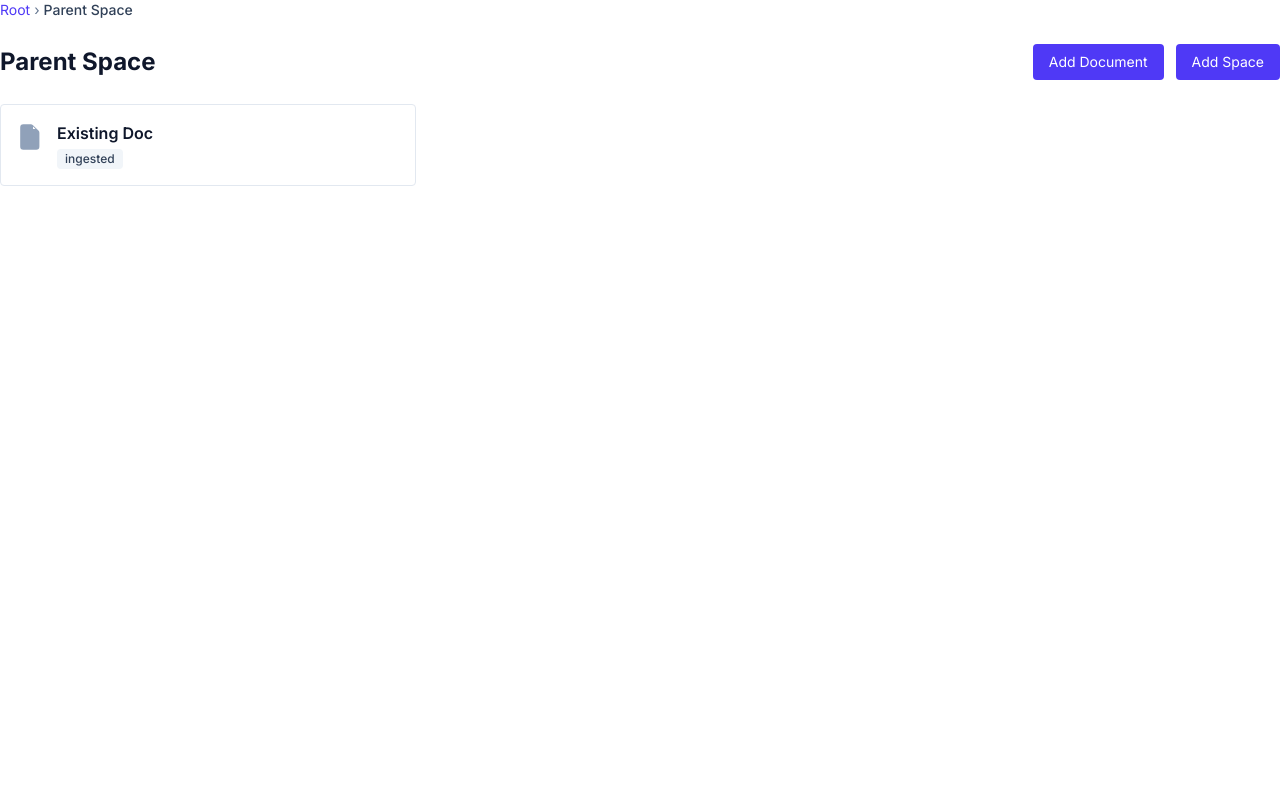
Test: Space page — Add Document button (US1) › creates a document in the current space and appends it to the grid without reload
This screenshot has width=1280, height=800.
Expected: the heading "Parent Space" is shown, [0,46,156,78]
Click the button "Add Document" at point(1098, 62), box [1033,44,1164,80]
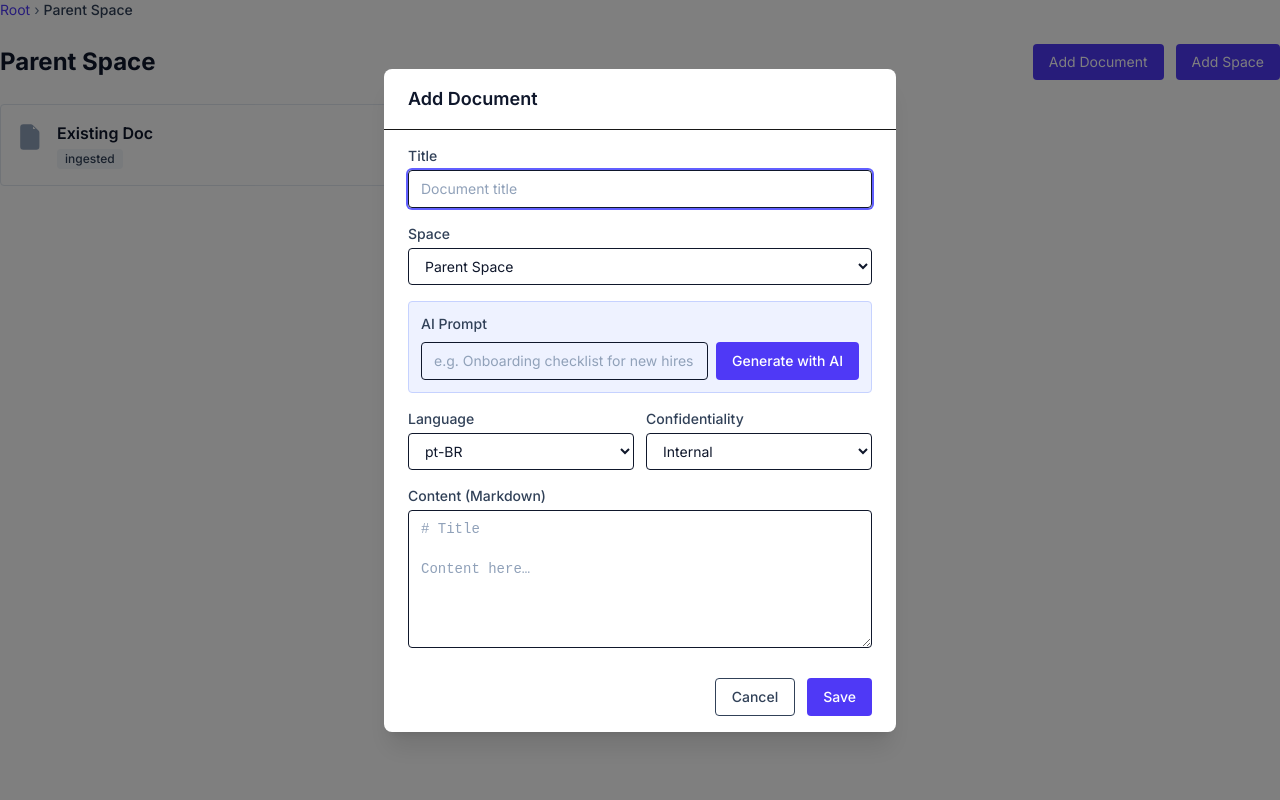
Type "New Doc" into the field labelled "Title" at point(640, 188), box [408,170,872,208]
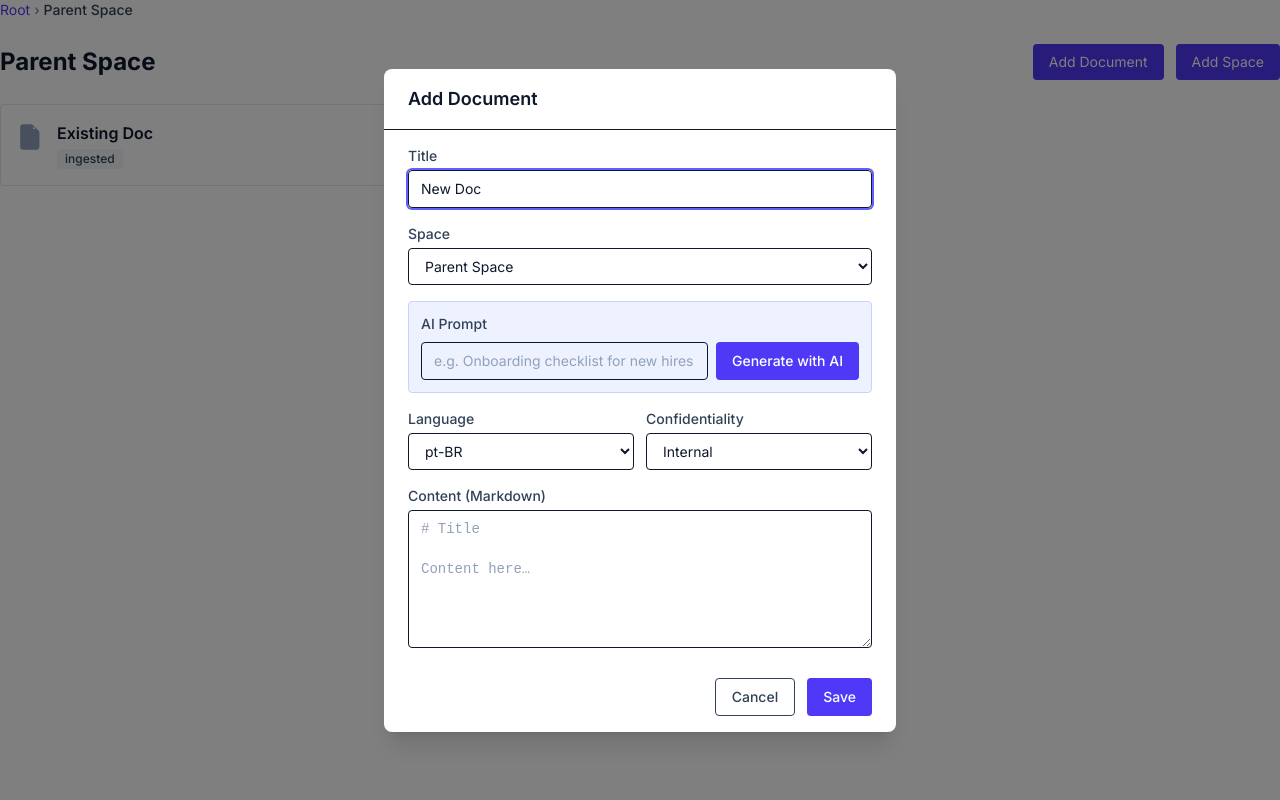
Click the button "Save" at point(840, 696), box [807,678,872,716]
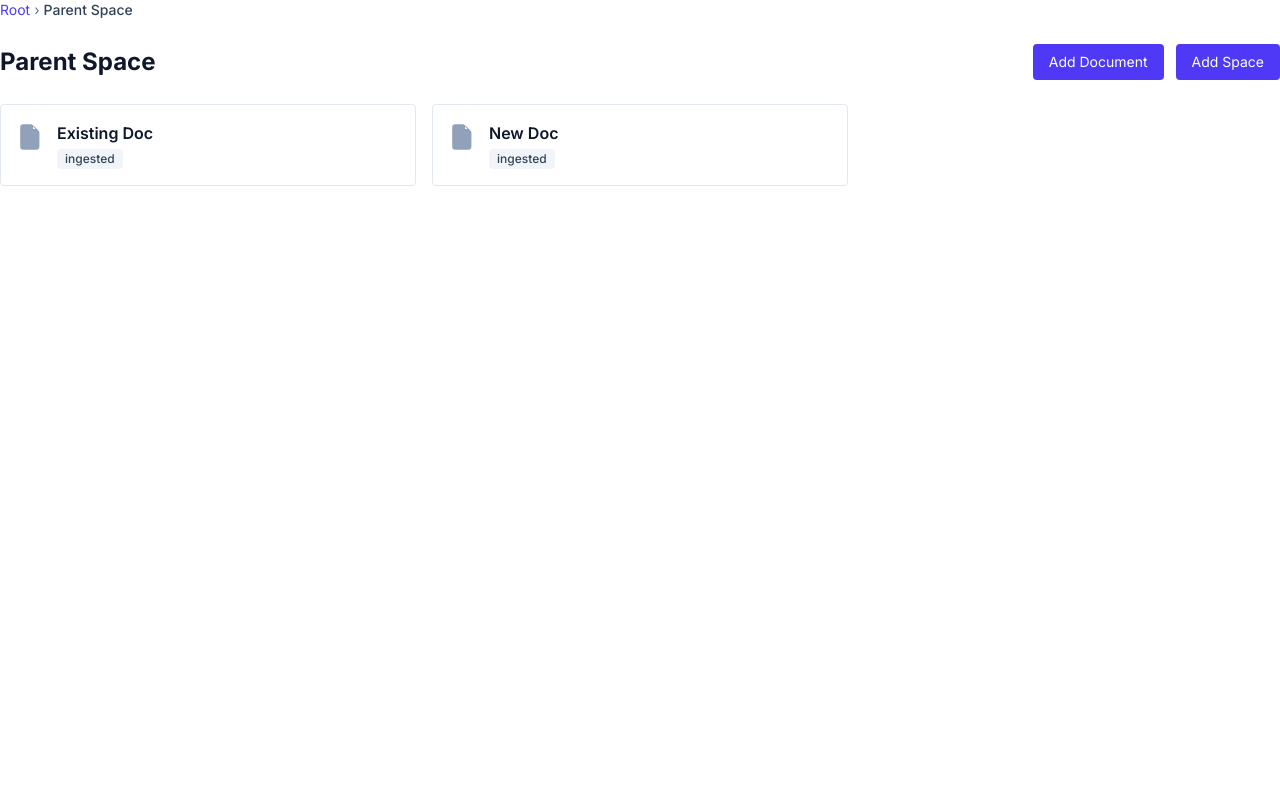
Now the dialog is gone
Now the heading "New Doc" is shown, box [489,121,558,145]
